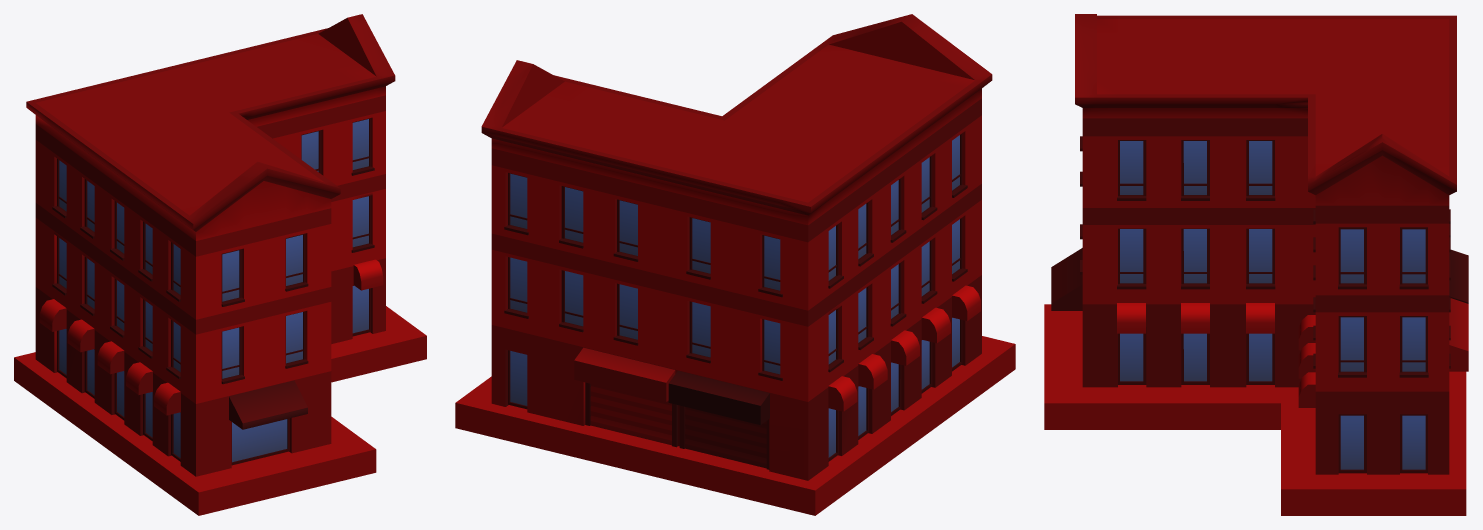
Rendered from buildings-business-commercialbuilding_v4.fbx.
3 renders of one model, left to right at view 1: azimuth 30°, elevation 25°; view 2: azimuth 150°, elevation 25°; view 3: azimuth 270°, elevation 25°, orthographic. The views are drawn at different scales.
Visible parts, largest first — view 1: CommercialBuilding_v4_base, CommercialBuilding_v4_windowRefl, CommercialBuilding_v4_color; view 2: CommercialBuilding_v4_base, CommercialBuilding_v4_windowRefl, CommercialBuilding_v4_color; view 3: CommercialBuilding_v4_base, CommercialBuilding_v4_windowRefl, CommercialBuilding_v4_color.
Boxes of the visible parts, x1,y1,x2,y2 form: CommercialBuilding_v4_base: (14,14,426,515); CommercialBuilding_v4_windowRefl: (59,119,368,462); CommercialBuilding_v4_color: (39,259,383,429); CommercialBuilding_v4_base: (455,14,1015,515); CommercialBuilding_v4_windowRefl: (510,135,959,457); CommercialBuilding_v4_color: (574,285,980,425); CommercialBuilding_v4_base: (1044,14,1466,515); CommercialBuilding_v4_windowRefl: (1120,141,1425,469); CommercialBuilding_v4_color: (1051,248,1468,407).
Size of the model in its own units: 23.31 by 21.3 by 22.58.
